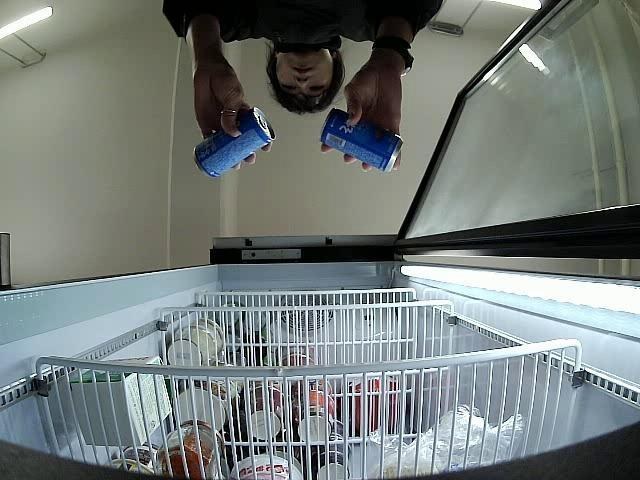15_letsbe: (192, 105, 276, 179), (320, 107, 404, 175)
